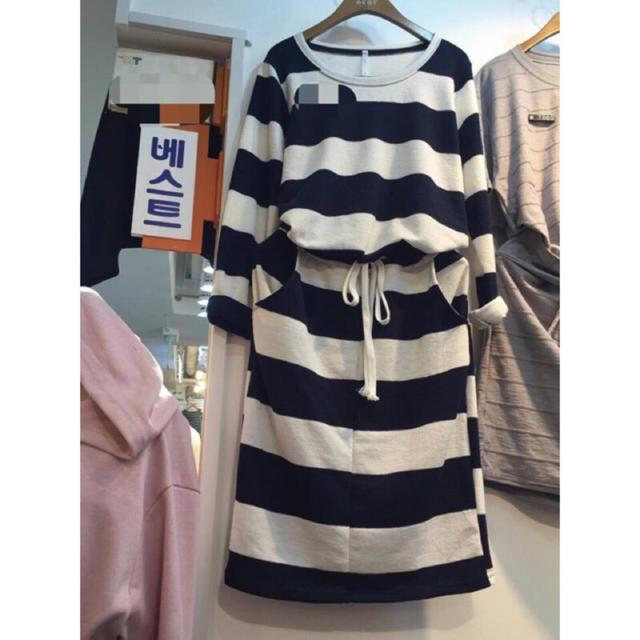Dresses: (241, 19, 493, 605)
